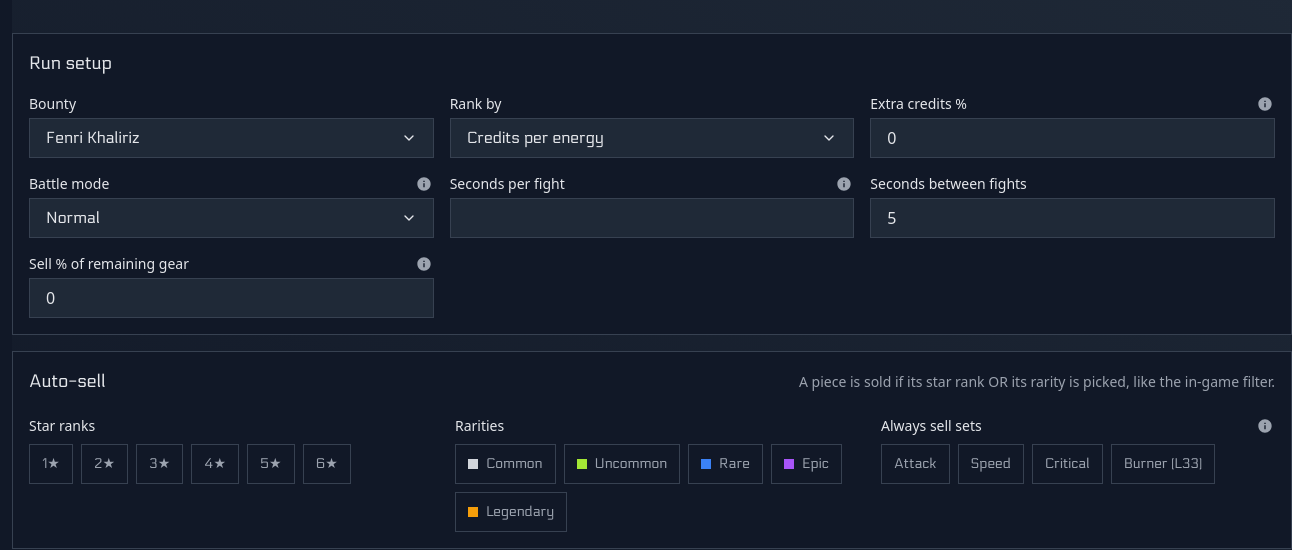
BountyCreditsCalculatorPage › a per-level tier override changes that row and clears when set back to the default
Click the button "Normal".
click(73, 218)  # box x1=29 y1=198 x2=434 y2=238
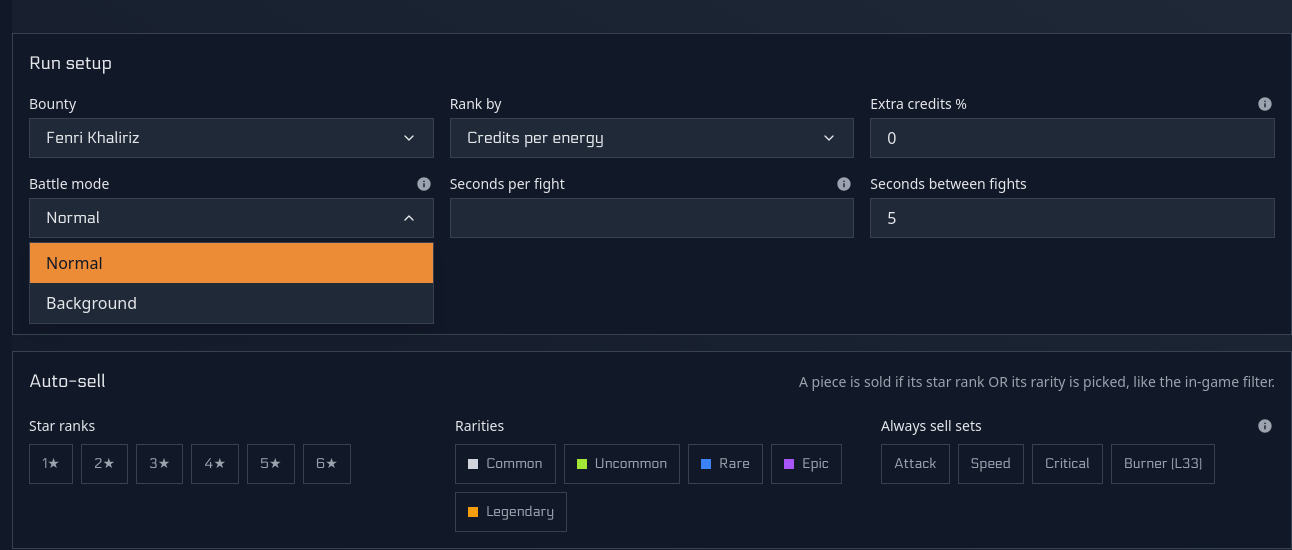
Click the option "Background".
click(92, 303)  # box x1=46 y1=292 x2=137 y2=314
(page scrolled)
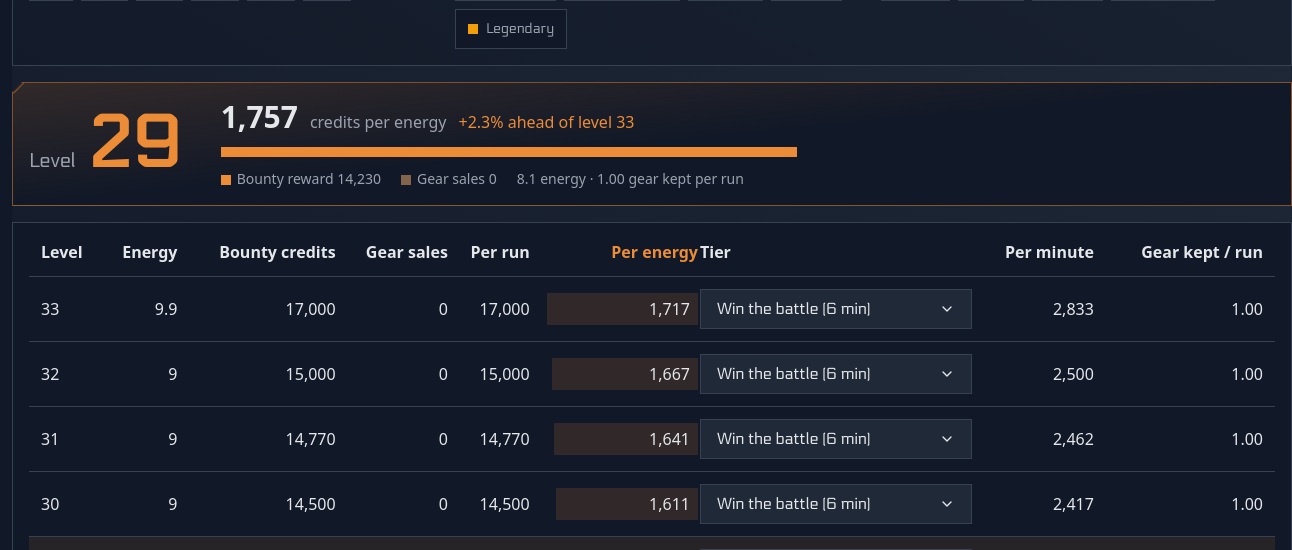
Click the button with aria-label "Tier, level 33".
click(836, 309)  # box x1=700 y1=289 x2=972 y2=329
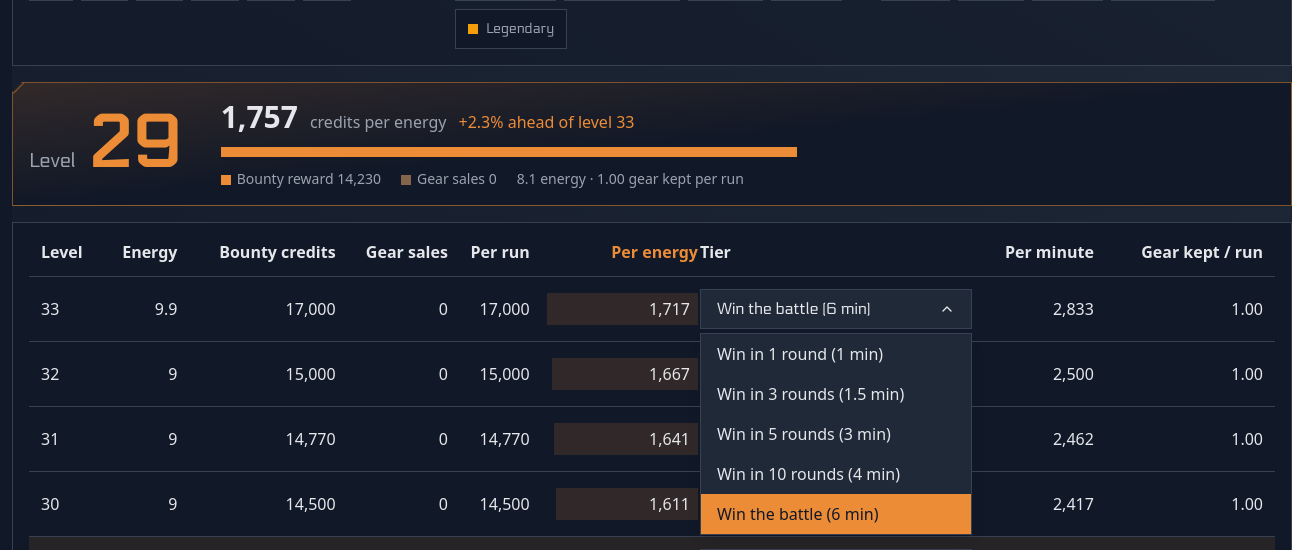
Click the option "Win in 1 round (1 min)".
click(800, 354)  # box x1=717 y1=343 x2=883 y2=365
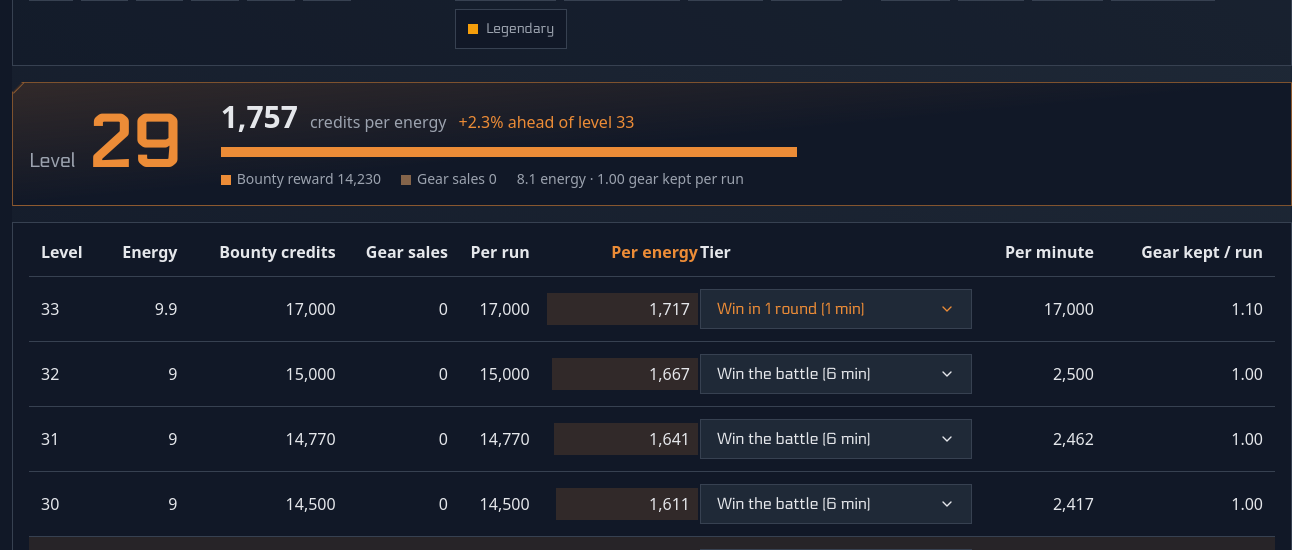
Expected: the row with test id "bounty-level-row" shows "17,000", x1=286 y1=298 x2=336 y2=320
Now the button with aria-label "Tier, level 33" has class "text-primary"
Click the button with aria-label "Tier, level 33".
click(836, 309)  # box x1=700 y1=289 x2=972 y2=329
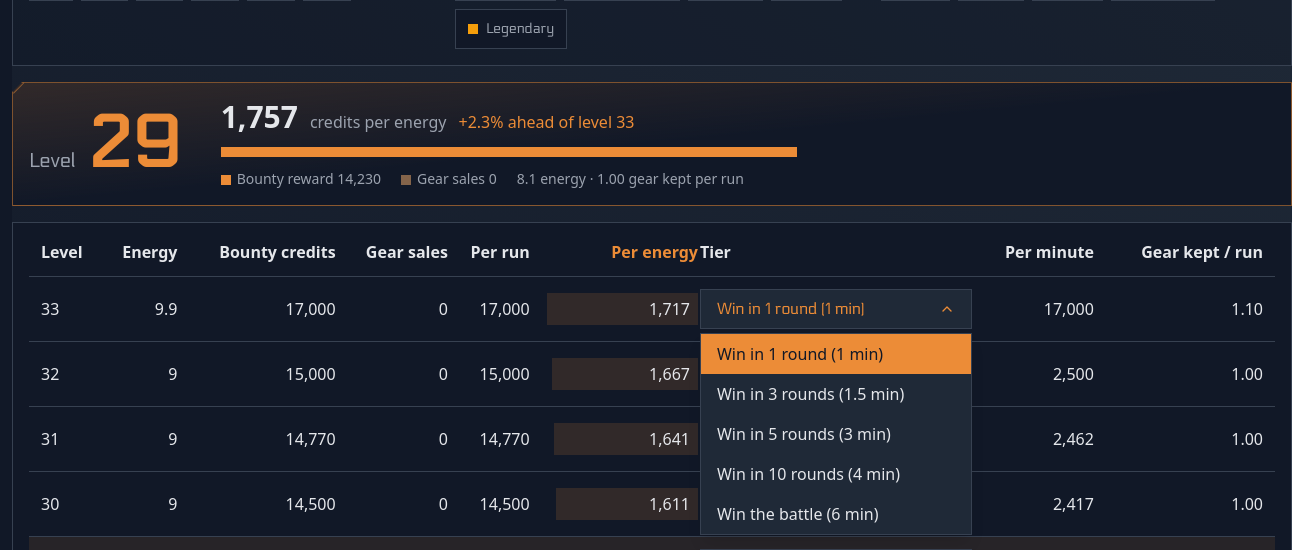
Click the option "Win the battle (6 min)".
click(798, 514)  # box x1=717 y1=503 x2=878 y2=525
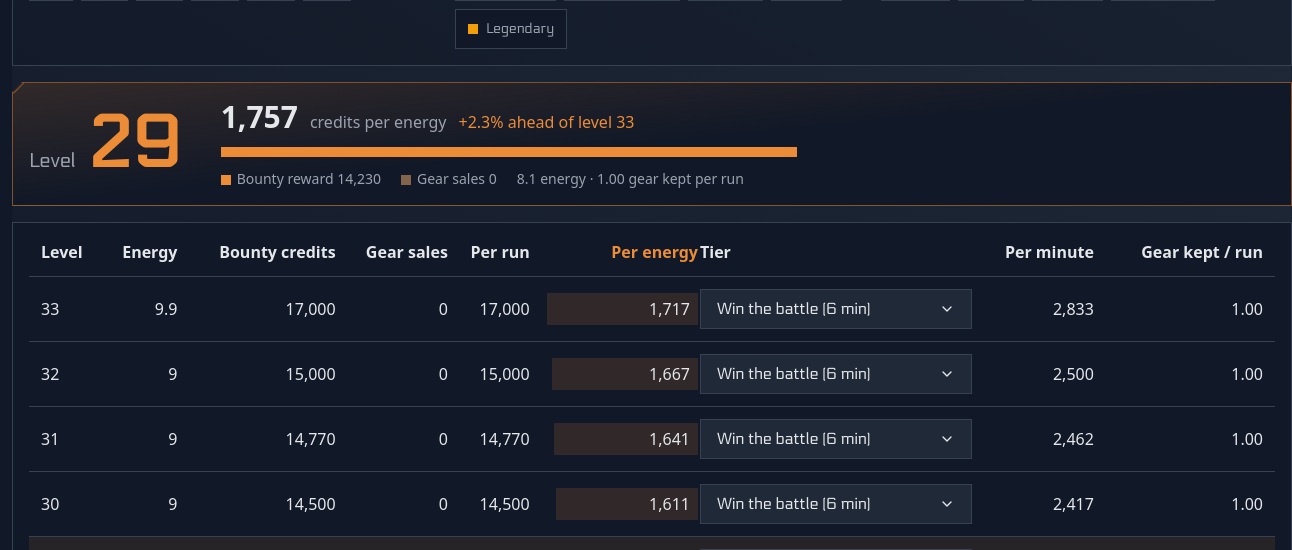
Now the row with test id "bounty-level-row" shows "2,833", box x1=1053 y1=298 x2=1094 y2=320
